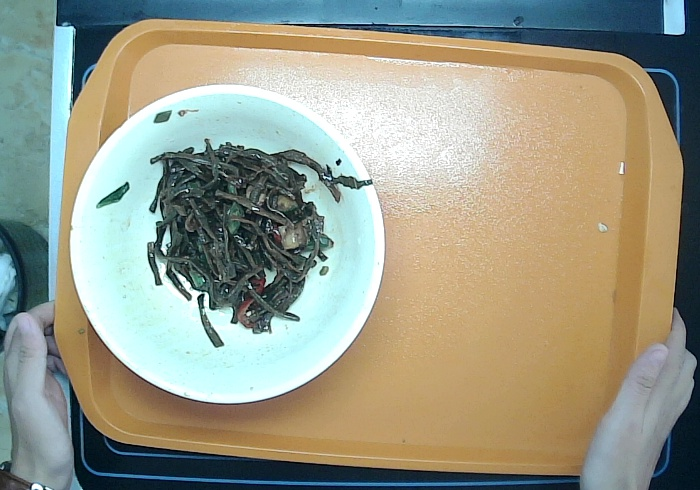ZNLD-Da_Tang_Wan: (68, 80, 384, 407)
